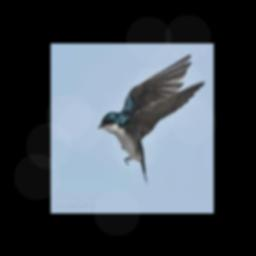Swallow: (98, 53, 204, 184)
